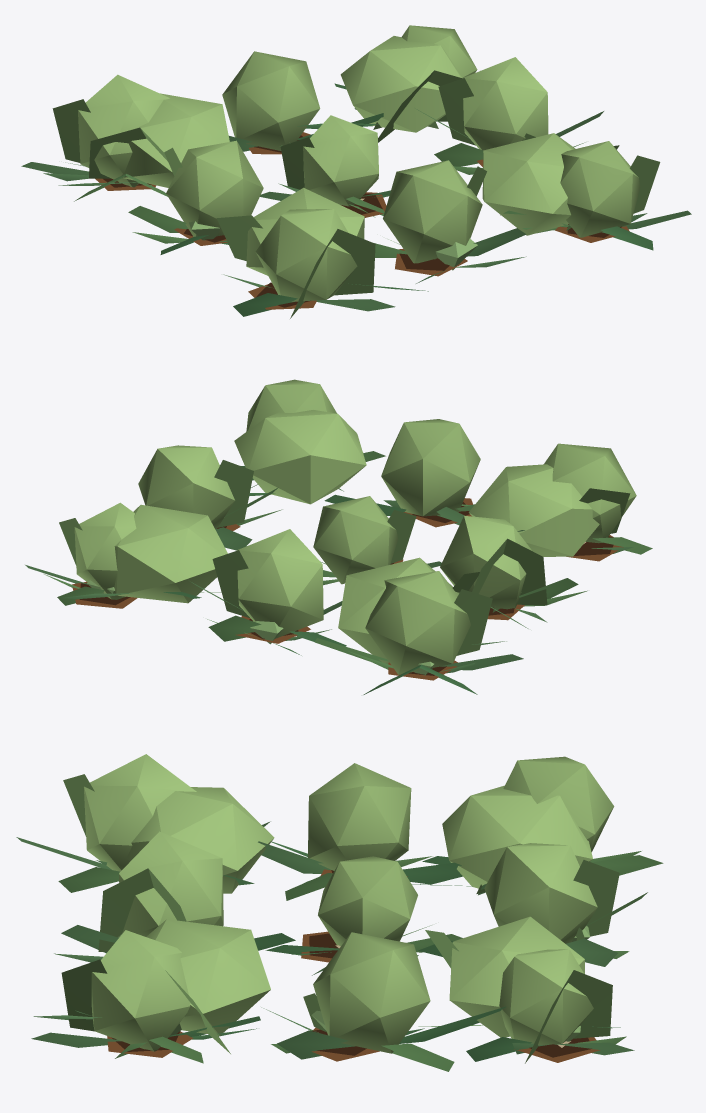
Rendered from cabbage.glb.
The picture shows the model from 3 angles, top to bottom: view 1: azimuth 30°, elevation 25°; view 2: azimuth 150°, elevation 25°; view 3: azimuth 270°, elevation 25°; orthographic projection. The views are drawn at different scales.
Visible parts, largest first — view 1: crop-cabbage-3, crop-cabbage-3-far, crop-cabbage-0, crop-cabbage-2; view 2: crop-cabbage-3, crop-cabbage-3-far, crop-cabbage-0, crop-cabbage-2; view 3: crop-cabbage-3, crop-cabbage-3-far, crop-cabbage-0, crop-cabbage-2.
Part boxes in pixels (x1,y1,x2,y2): crop-cabbage-3: (21,25,691,318); crop-cabbage-3-far: (58,36,619,291); crop-cabbage-0: (95,132,629,309); crop-cabbage-2: (43,133,647,288); crop-cabbage-3: (25,379,652,694); crop-cabbage-3-far: (62,410,630,663); crop-cabbage-0: (72,498,623,680); crop-cabbage-2: (44,478,633,675); crop-cabbage-3: (16,754,663,1071); crop-cabbage-3-far: (33,785,592,1053); crop-cabbage-0: (107,869,600,1062); crop-cabbage-2: (54,841,641,1058).
Bounding box in the file's own units: 1.89 × 0.3918 × 1.85.
